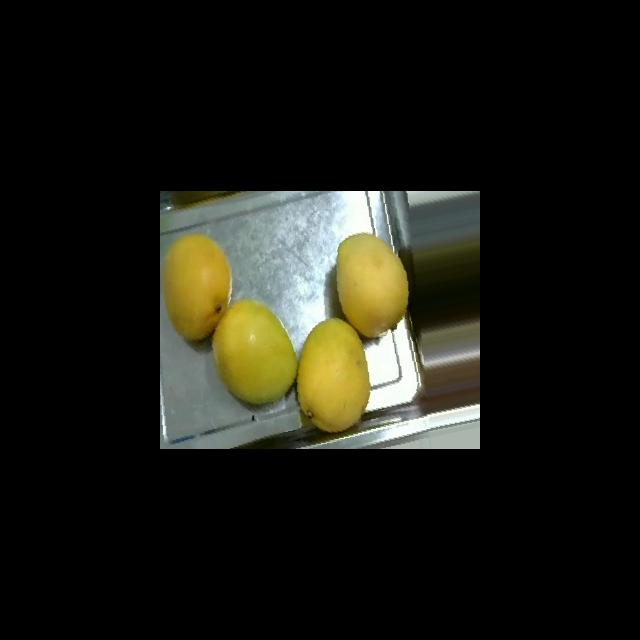Mango: (211, 298, 297, 405), (296, 317, 370, 433), (335, 231, 409, 338), (162, 233, 232, 341)
